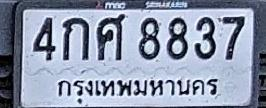3: (194, 16, 216, 59)
4: (33, 18, 55, 60)
7: (221, 16, 244, 60)
8: (138, 17, 160, 60), (166, 17, 188, 59)
A01: (62, 17, 89, 60)
A38: (97, 14, 125, 61)
BKK: (53, 73, 221, 106)
